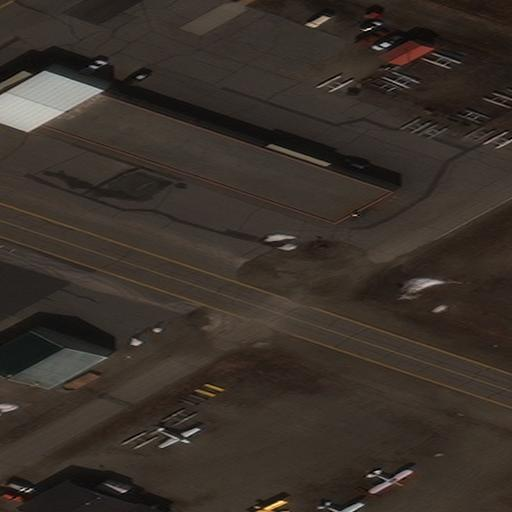Small Civil Transport: (370, 470, 413, 494), (159, 429, 201, 448), (247, 499, 281, 512), (322, 503, 365, 512)
